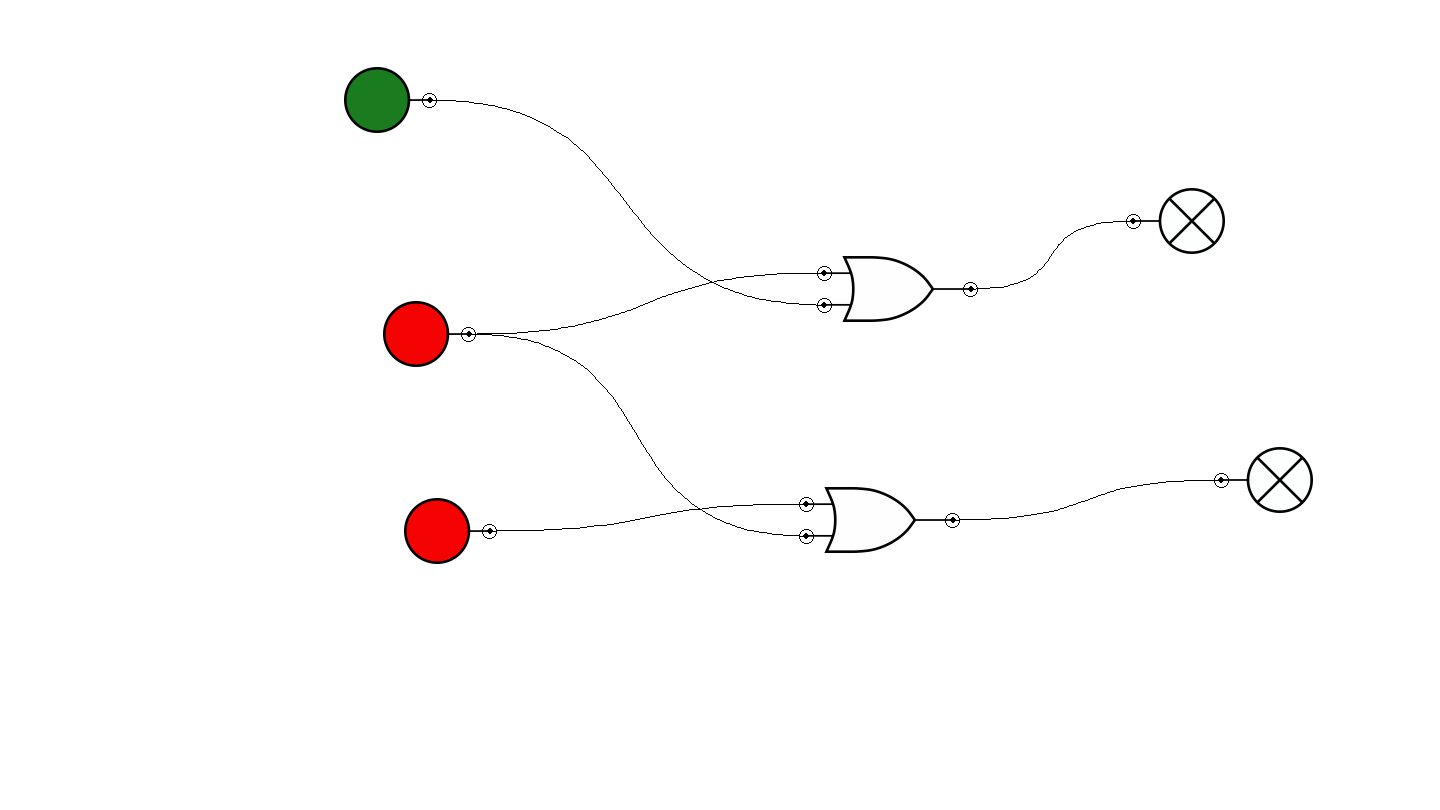bulb: (1214, 447, 1313, 513), (1126, 188, 1225, 254)
or: (799, 487, 960, 553), (817, 256, 978, 322)
switch_False: (383, 301, 476, 367), (404, 498, 497, 564)
switch_True: (344, 67, 437, 133)
